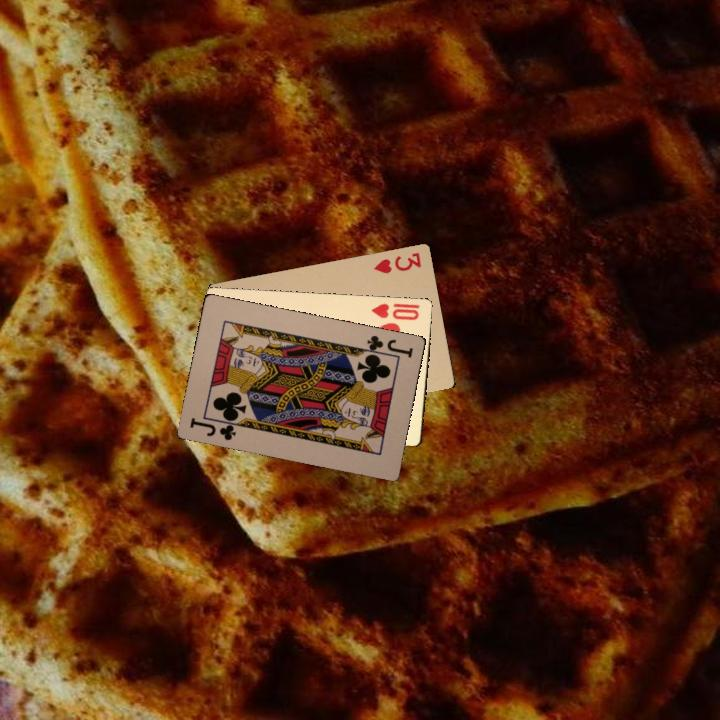10h: (369, 299, 422, 322)
3h: (370, 248, 424, 276)
Jc: (186, 412, 242, 443), (360, 331, 415, 361)
